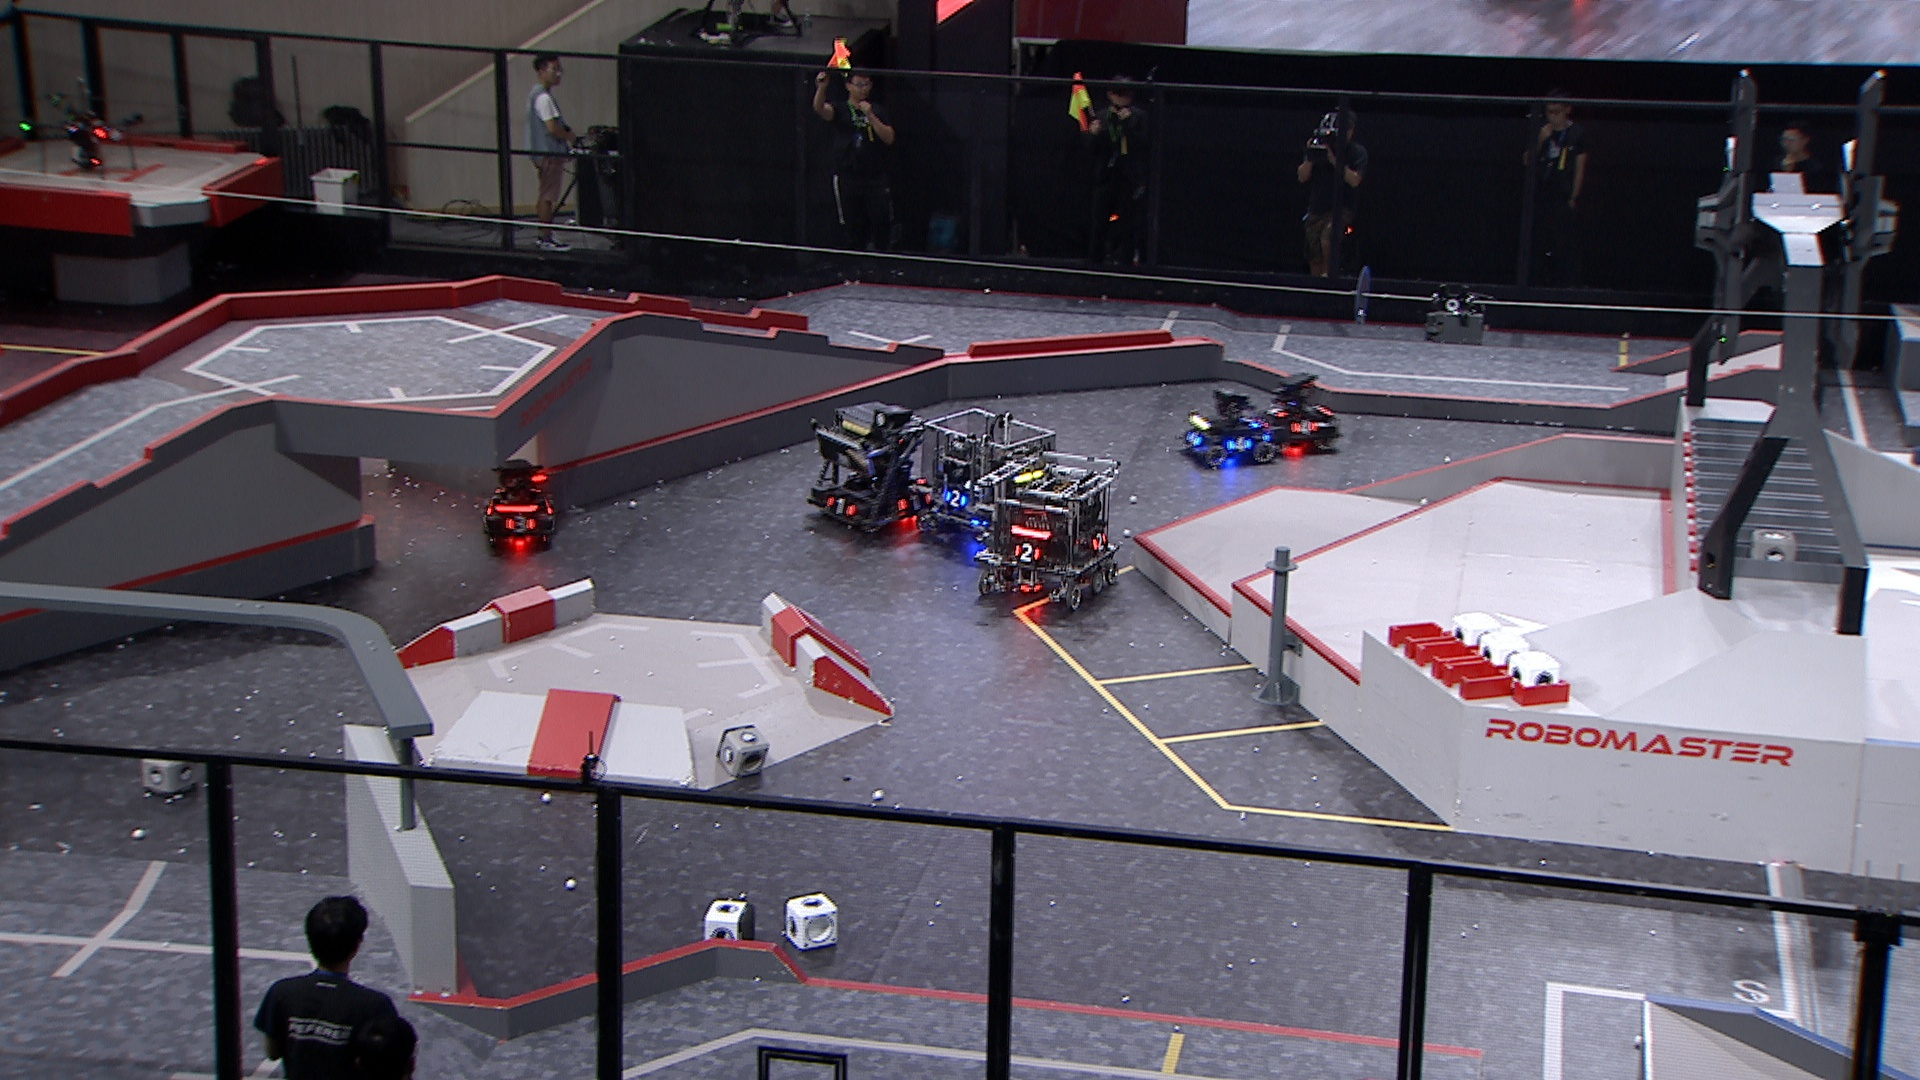armor: (823, 496, 858, 520), (894, 493, 935, 513), (502, 514, 538, 535), (942, 489, 971, 509), (1015, 542, 1040, 564), (1290, 418, 1320, 436), (1225, 436, 1253, 454), (1091, 531, 1109, 553), (1185, 431, 1207, 450), (1263, 406, 1287, 419), (1240, 414, 1259, 425)
car: (967, 447, 1127, 612), (913, 409, 1059, 541), (806, 400, 939, 538), (1178, 385, 1275, 467), (1251, 372, 1346, 451), (481, 456, 558, 549)
